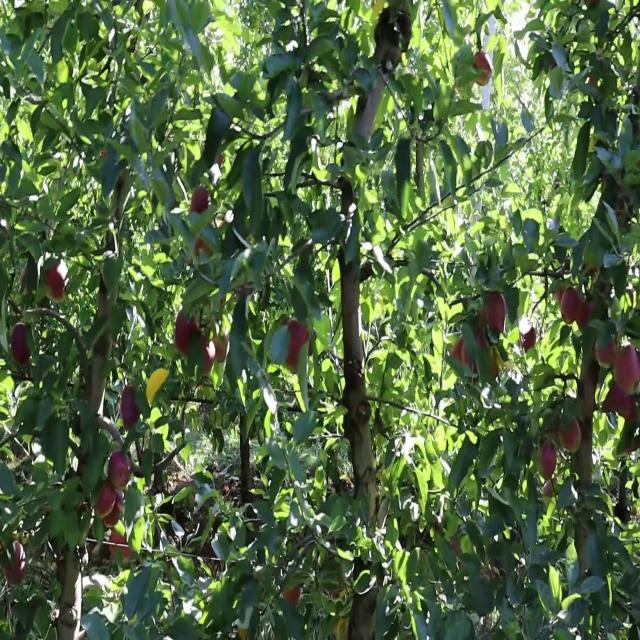apple: (284, 319, 309, 370), (480, 291, 508, 334), (456, 334, 486, 373), (96, 483, 123, 526), (616, 348, 640, 391), (176, 312, 199, 356), (580, 369, 599, 421), (4, 547, 27, 588), (108, 455, 133, 491), (452, 334, 476, 370), (120, 391, 140, 432), (100, 497, 124, 530), (12, 327, 32, 366), (148, 369, 169, 405), (560, 419, 582, 453), (560, 291, 582, 325), (48, 263, 67, 302), (472, 49, 492, 85), (620, 391, 640, 427), (596, 334, 617, 368), (616, 391, 637, 423), (540, 440, 558, 476), (212, 327, 230, 363), (580, 298, 597, 334), (604, 383, 618, 416), (192, 191, 211, 215), (204, 341, 215, 377), (524, 327, 537, 354), (196, 241, 212, 261), (284, 590, 301, 606), (336, 618, 348, 639), (544, 483, 555, 498), (20, 270, 28, 290), (588, 78, 599, 91)
